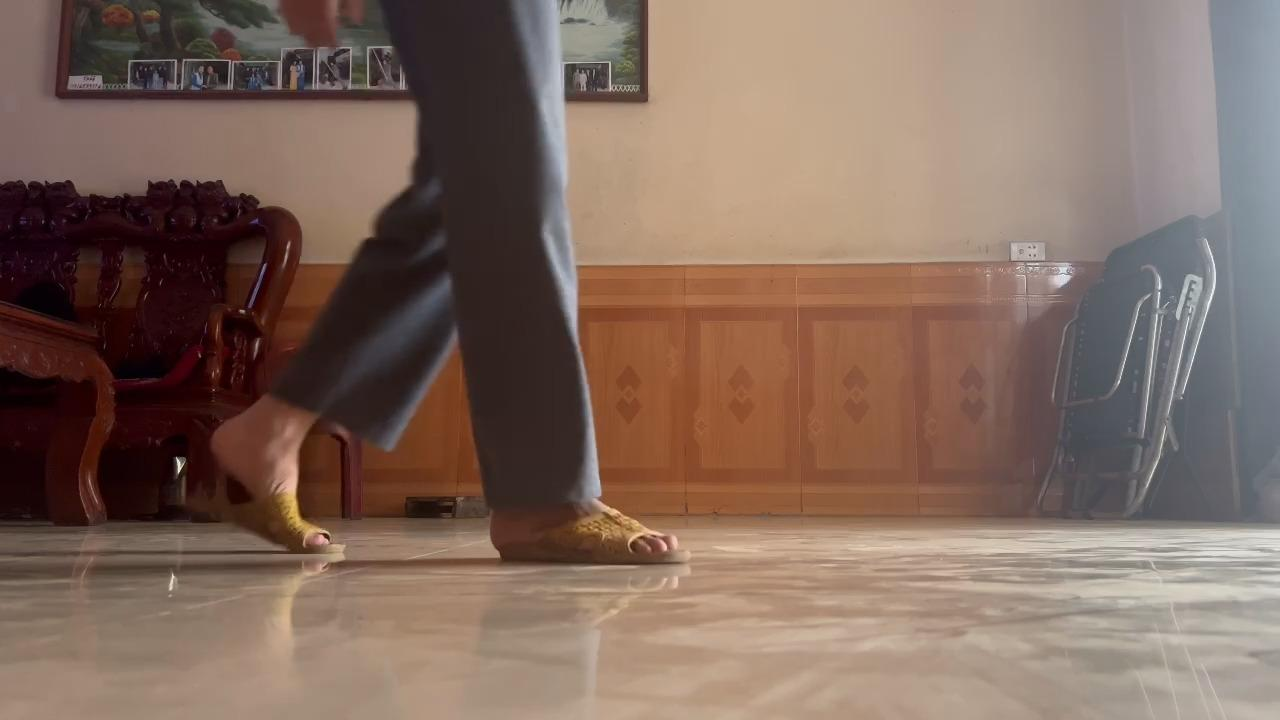no-boot: (197, 419, 353, 564), (483, 509, 696, 576)
